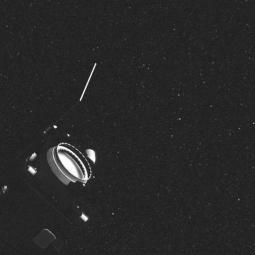proba_3_csc: (0, 56, 128, 255)
